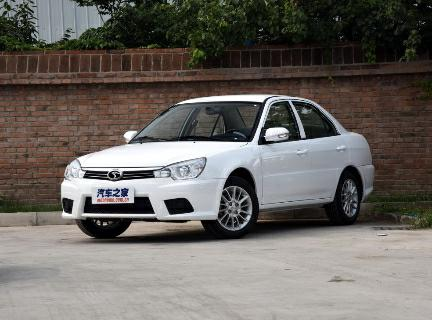东南-V3菱悦: (60, 90, 383, 248)
